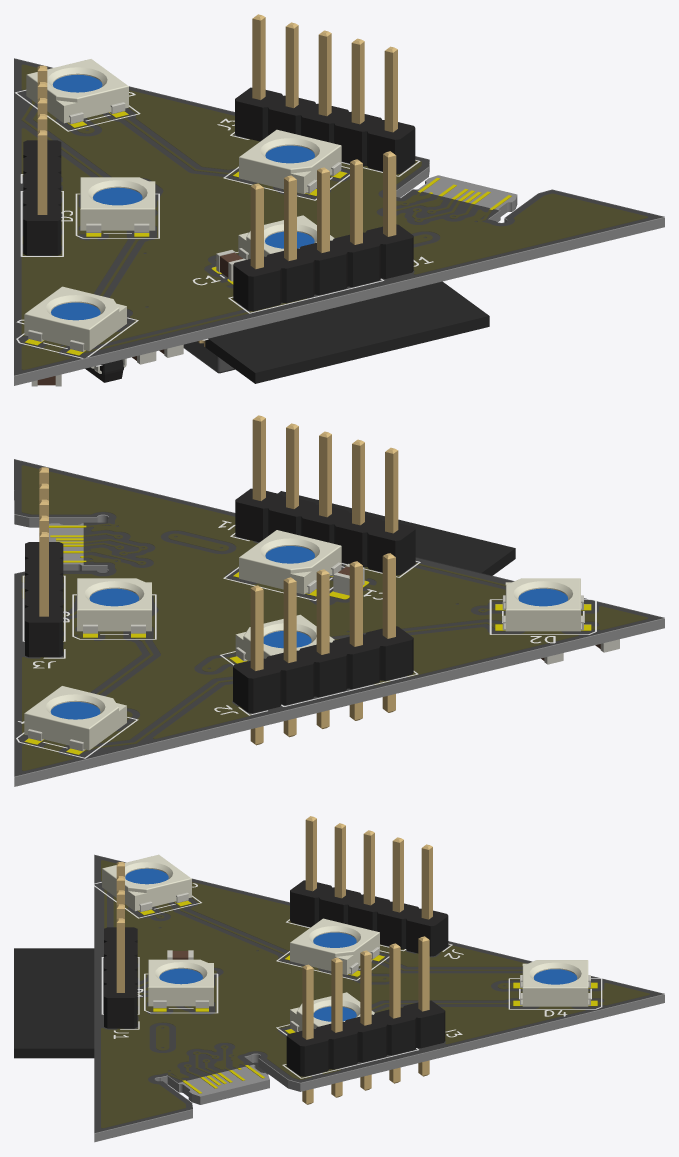
The model's file is antenna.glb.
3 renders of one model, top to bottom at view 1: azimuth 30°, elevation 25°; view 2: azimuth 150°, elevation 25°; view 3: azimuth 270°, elevation 25°, orthographic. The views are drawn at different scales.
Visible parts, largest first — view 1: =>[0:1:1:9], =>[0:1:1:7], =>[0:1:1:10], U1, J1, J3, J2, D2, D5, D4, D3, =>[0:1:1:8] (+2 smaller); view 2: =>[0:1:1:9], =>[0:1:1:7], =>[0:1:1:10], J2, J1, J3, D4, D1, D2, D5, U1, =>[0:1:1:8] (+1 smaller); view 3: =>[0:1:1:9], =>[0:1:1:7], =>[0:1:1:10], J3, J2, U1, J1, D3, D2, D4, D1, =>[0:1:1:8] (+1 smaller).
Boxes of the visible parts, <box> form: =>[0:1:1:9]: <box>14,58,664,375</box>; =>[0:1:1:7]: <box>22,65,647,369</box>; =>[0:1:1:10]: <box>14,59,664,385</box>; U1: <box>183,281,489,383</box>; J1: <box>233,151,413,311</box>; J3: <box>235,14,415,174</box>; J2: <box>23,65,61,255</box>; D2: <box>24,286,126,351</box>; D5: <box>239,129,341,193</box>; D4: <box>26,59,128,124</box>; D3: <box>80,177,155,232</box>; =>[0:1:1:8]: <box>15,90,445,366</box>; =>[0:1:1:9]: <box>14,459,664,776</box>; =>[0:1:1:7]: <box>22,466,647,770</box>; =>[0:1:1:10]: <box>14,460,664,786</box>; J2: <box>233,553,413,745</box>; J1: <box>235,415,415,575</box>; J3: <box>25,467,63,657</box>; D4: <box>24,686,126,751</box>; D1: <box>239,530,341,594</box>; D2: <box>502,578,583,631</box>; D5: <box>77,578,151,633</box>; U1: <box>278,491,515,575</box>; =>[0:1:1:8]: <box>16,520,596,758</box>; =>[0:1:1:9]: <box>94,854,664,1133</box>; =>[0:1:1:7]: <box>101,861,649,1127</box>; =>[0:1:1:10]: <box>94,856,664,1142</box>; J3: <box>286,936,445,1104</box>; J2: <box>290,816,448,956</box>; U1: <box>14,948,268,1074</box>; J1: <box>104,862,137,1028</box>; D3: <box>290,918,379,974</box>; D2: <box>102,854,191,911</box>; D4: <box>520,960,590,1006</box>; D1: <box>148,959,213,1008</box>; =>[0:1:1:8]: <box>94,882,602,1078</box>.
Bounding box in the file's own units: 0.05 × 0.0126 × 0.0494.
